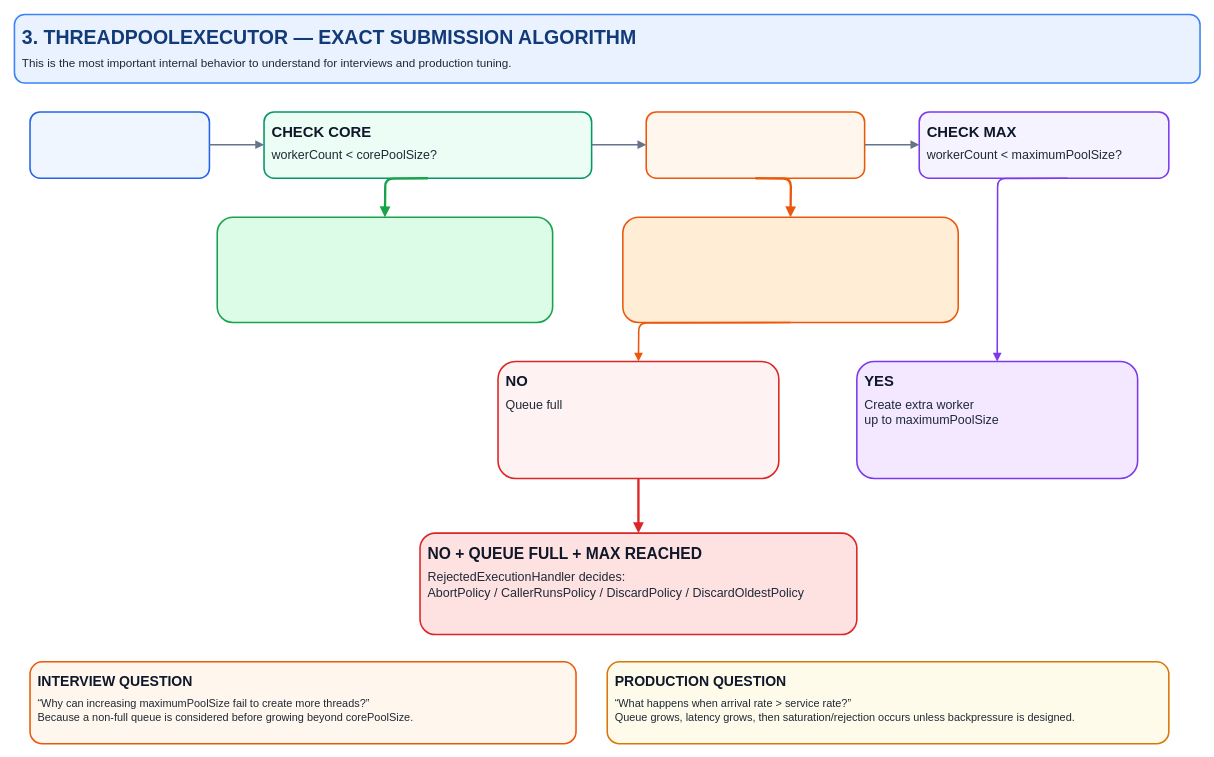
Image size: 1214x757. Some labels were removed from this diagram. The box of each missing label's shape, as (x1, y1, x2, y2) in pixels:
CHECK QUEUE Can task be queued?: (645, 111, 865, 179)
SUBMIT TASK pool.execute(task): (29, 111, 210, 179)
YES Create new worker Worker executes task: (216, 216, 553, 323)
YES Enqueue task Worker will take it later: (622, 216, 959, 323)
